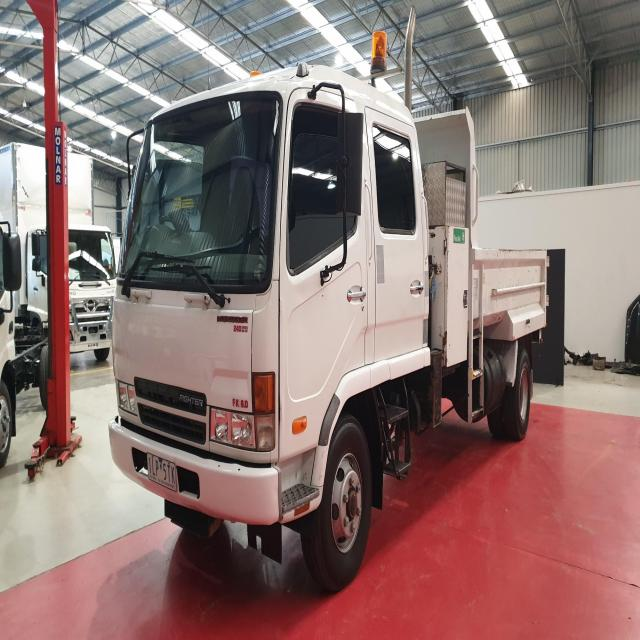truck: (108, 61, 554, 586), (0, 140, 118, 371)
